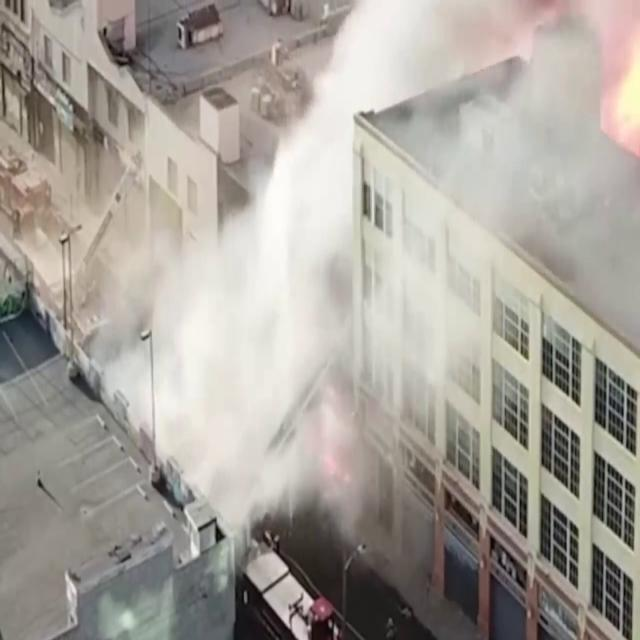Smoke: (123, 0, 435, 568), (440, 0, 640, 305)
